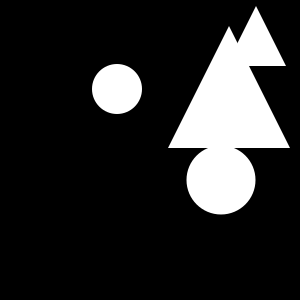rectangle: (186, 146, 256, 214), (92, 64, 142, 114)
triangle: (168, 26, 290, 148), (226, 6, 286, 66)
